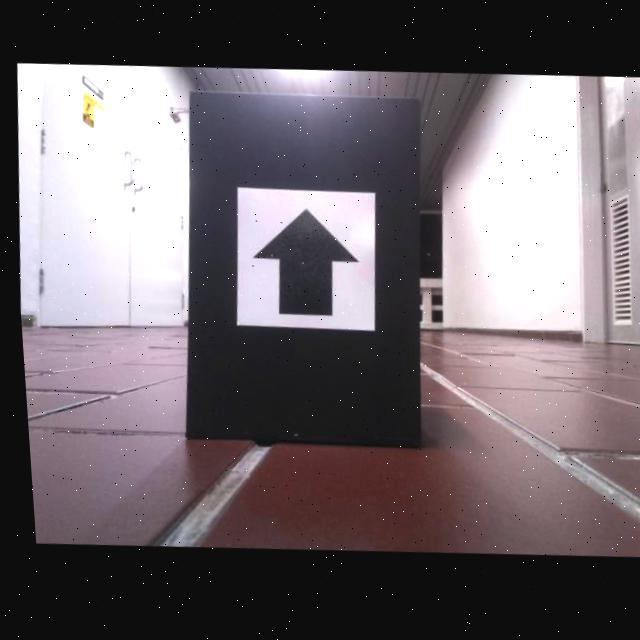UP: (249, 211, 356, 318)
